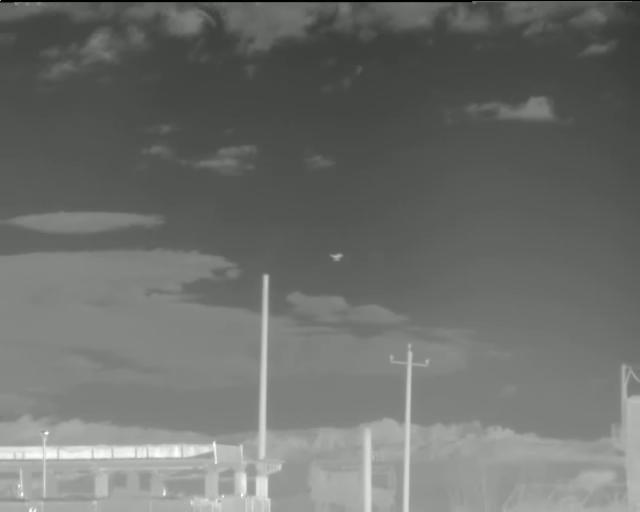uav: (329, 253, 345, 263)
